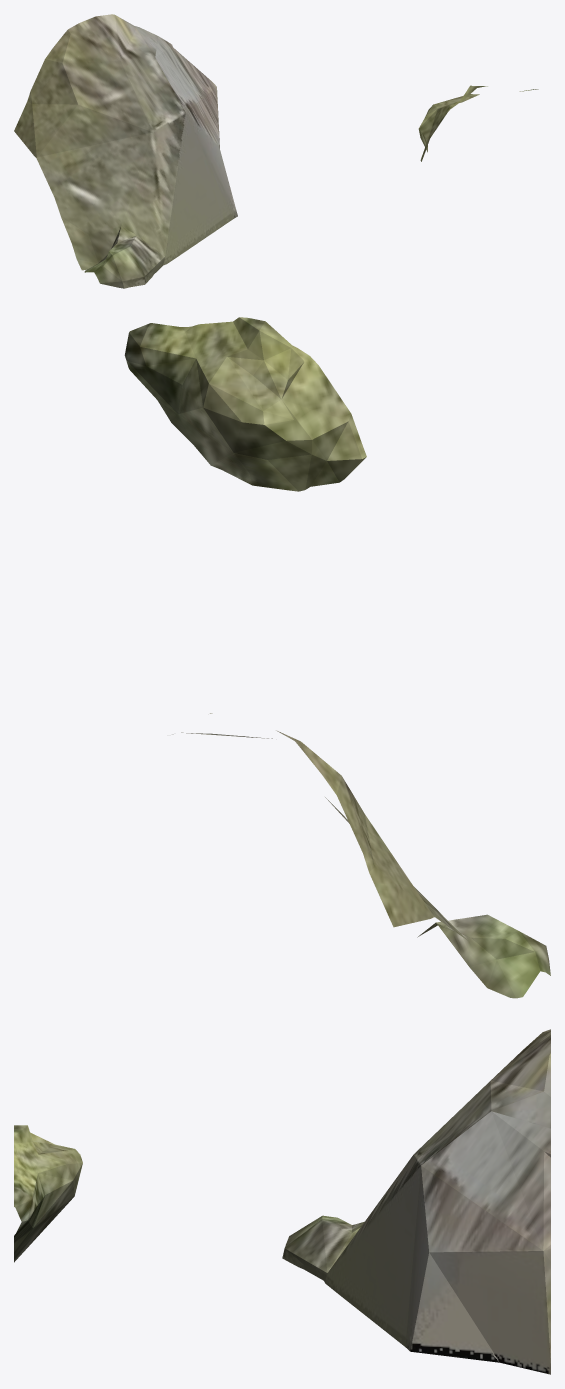
The picture shows the model from 3 angles, top to bottom: view 1: azimuth 30°, elevation 25°; view 2: azimuth 150°, elevation 25°; view 3: azimuth 270°, elevation 25°; orthographic projection. The views are drawn at different scales.
Size of the model in its own units: 5.9 by 3.5 by 5.9.
1 material, 1 textured.
